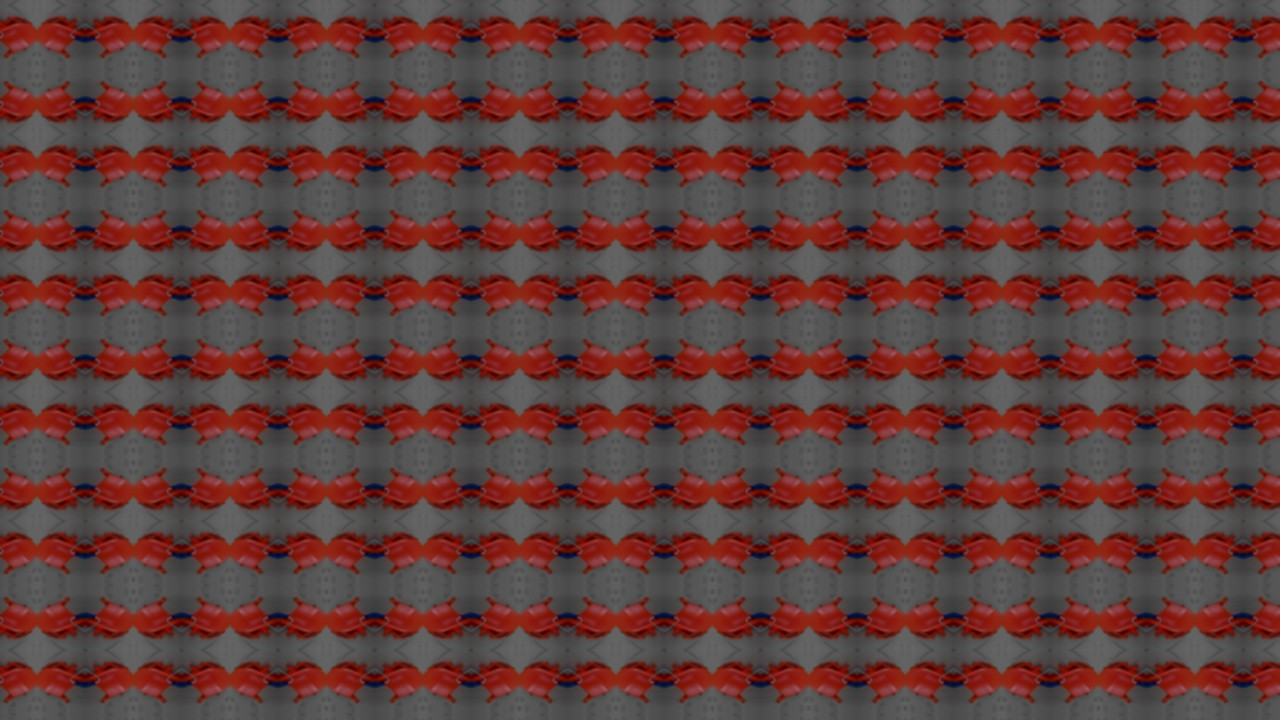chock: (82, 138, 131, 190), (179, 138, 228, 190), (276, 138, 325, 190), (373, 138, 422, 190), (470, 138, 519, 190), (567, 138, 616, 190), (664, 138, 713, 190), (761, 138, 810, 190), (858, 138, 907, 190), (955, 138, 1004, 190), (1052, 138, 1101, 190), (1149, 138, 1198, 190), (82, 206, 131, 258), (179, 206, 228, 258), (276, 206, 325, 258), (373, 206, 422, 258), (470, 206, 519, 258), (567, 206, 616, 258), (664, 206, 713, 258), (761, 206, 810, 258), (858, 206, 907, 258), (955, 206, 1004, 258), (1052, 206, 1101, 258), (1149, 206, 1198, 258), (82, 397, 131, 449), (179, 397, 228, 449), (276, 397, 325, 449), (373, 397, 422, 449), (470, 397, 519, 449), (567, 397, 616, 449), (664, 397, 713, 449), (761, 397, 810, 449), (858, 397, 907, 449), (955, 397, 1004, 449), (1052, 397, 1101, 449), (1149, 397, 1198, 449), (82, 465, 131, 517), (179, 465, 228, 517), (276, 465, 325, 517), (373, 465, 422, 517), (470, 465, 519, 517), (567, 465, 616, 517), (664, 465, 713, 517), (761, 465, 810, 517), (858, 465, 907, 517), (955, 465, 1004, 517), (1052, 465, 1101, 517), (1149, 465, 1198, 517), (82, 656, 131, 708), (179, 656, 228, 708), (276, 656, 325, 708), (373, 656, 422, 708), (470, 656, 519, 708), (567, 656, 616, 708), (664, 656, 713, 708), (761, 656, 810, 708), (858, 656, 907, 708), (955, 656, 1004, 708), (1052, 656, 1101, 708), (1149, 656, 1198, 708), (82, 9, 131, 60), (179, 9, 228, 60), (276, 9, 325, 60), (373, 9, 422, 60), (470, 9, 519, 60), (567, 9, 616, 60), (664, 9, 713, 60), (761, 9, 810, 60), (858, 9, 907, 60), (955, 9, 1004, 60), (1052, 9, 1101, 60), (1149, 9, 1198, 60), (82, 77, 131, 128), (179, 77, 228, 128), (276, 77, 325, 128), (373, 77, 422, 128), (470, 77, 519, 128), (567, 77, 616, 128), (664, 77, 713, 128), (761, 77, 810, 128), (858, 77, 907, 128), (955, 77, 1004, 128), (1052, 77, 1101, 128), (1149, 77, 1198, 128), (82, 268, 131, 319), (179, 268, 228, 319), (276, 268, 325, 319), (373, 268, 422, 319), (470, 268, 519, 319), (567, 268, 616, 319), (664, 268, 713, 319), (761, 268, 810, 319), (858, 268, 907, 319), (955, 268, 1004, 319), (1052, 268, 1101, 319), (1149, 268, 1198, 319), (82, 336, 131, 387), (179, 336, 228, 387), (276, 336, 325, 387), (373, 336, 422, 387), (470, 336, 519, 387), (567, 336, 616, 387), (664, 336, 713, 387), (761, 336, 810, 387), (858, 336, 907, 387), (955, 336, 1004, 387), (1052, 336, 1101, 387), (1149, 336, 1198, 387), (82, 527, 131, 578), (179, 527, 228, 578), (276, 527, 325, 578), (373, 527, 422, 578), (470, 527, 519, 578), (567, 527, 616, 578), (664, 527, 713, 578), (761, 527, 810, 578), (858, 527, 907, 578), (955, 527, 1004, 578), (1052, 527, 1101, 578), (1149, 527, 1198, 578), (82, 595, 131, 646), (179, 595, 228, 646), (276, 595, 325, 646), (373, 595, 422, 646), (470, 595, 519, 646), (567, 595, 616, 646), (664, 595, 713, 646), (761, 595, 810, 646), (858, 595, 907, 646), (955, 595, 1004, 646), (1052, 595, 1101, 646), (1149, 595, 1198, 646), (34, 138, 82, 190), (131, 138, 179, 190), (228, 138, 276, 190), (325, 138, 373, 190), (422, 138, 470, 190), (519, 138, 567, 190), (616, 138, 664, 190), (713, 138, 761, 190), (810, 138, 858, 190), (907, 138, 955, 190), (1004, 138, 1052, 190), (1101, 138, 1149, 190), (1198, 138, 1246, 190), (34, 206, 82, 258), (131, 206, 179, 258), (228, 206, 276, 258), (325, 206, 373, 258), (422, 206, 470, 258), (519, 206, 567, 258), (616, 206, 664, 258), (713, 206, 761, 258), (810, 206, 858, 258), (907, 206, 955, 258), (1004, 206, 1052, 258), (1101, 206, 1149, 258), (1198, 206, 1246, 258), (34, 397, 82, 449), (131, 397, 179, 449), (228, 397, 276, 449), (325, 397, 373, 449), (422, 397, 470, 449), (519, 397, 567, 449), (616, 397, 664, 449), (713, 397, 761, 449), (810, 397, 858, 449), (907, 397, 955, 449), (1004, 397, 1052, 449), (1101, 397, 1149, 449), (1198, 397, 1246, 449), (34, 465, 82, 517), (131, 465, 179, 517), (228, 465, 276, 517), (325, 465, 373, 517), (422, 465, 470, 517), (519, 465, 567, 517), (616, 465, 664, 517), (713, 465, 761, 517), (810, 465, 858, 517), (907, 465, 955, 517), (1004, 465, 1052, 517), (1101, 465, 1149, 517), (1198, 465, 1246, 517), (34, 656, 82, 708), (131, 656, 179, 708), (228, 656, 276, 708), (325, 656, 373, 708), (422, 656, 470, 708), (519, 656, 567, 708), (616, 656, 664, 708), (713, 656, 761, 708), (810, 656, 858, 708), (907, 656, 955, 708), (1004, 656, 1052, 708), (1101, 656, 1149, 708), (1198, 656, 1246, 708), (34, 9, 82, 60), (131, 9, 179, 60), (228, 9, 276, 60), (325, 9, 373, 60), (422, 9, 470, 60), (519, 9, 567, 60), (616, 9, 664, 60), (713, 9, 761, 60), (810, 9, 858, 60), (907, 9, 955, 60), (1004, 9, 1052, 60), (1101, 9, 1149, 60), (1198, 9, 1246, 60), (34, 77, 82, 128), (131, 77, 179, 128), (228, 77, 276, 128), (325, 77, 373, 128), (422, 77, 470, 128), (519, 77, 567, 128), (616, 77, 664, 128), (713, 77, 761, 128), (810, 77, 858, 128), (907, 77, 955, 128), (1004, 77, 1052, 128), (1101, 77, 1149, 128), (1198, 77, 1246, 128), (34, 268, 82, 319), (131, 268, 179, 319), (228, 268, 276, 319), (325, 268, 373, 319), (422, 268, 470, 319), (519, 268, 567, 319), (616, 268, 664, 319), (713, 268, 761, 319), (810, 268, 858, 319), (907, 268, 955, 319), (1004, 268, 1052, 319), (1101, 268, 1149, 319), (1198, 268, 1246, 319), (34, 336, 82, 387), (131, 336, 179, 387), (228, 336, 276, 387), (325, 336, 373, 387), (422, 336, 470, 387), (519, 336, 567, 387), (616, 336, 664, 387), (713, 336, 761, 387), (810, 336, 858, 387), (907, 336, 955, 387), (1004, 336, 1052, 387), (1101, 336, 1149, 387), (1198, 336, 1246, 387), (34, 527, 82, 578), (131, 527, 179, 578), (228, 527, 276, 578), (325, 527, 373, 578), (422, 527, 470, 578), (519, 527, 567, 578), (616, 527, 664, 578), (713, 527, 761, 578), (810, 527, 858, 578), (907, 527, 955, 578), (1004, 527, 1052, 578), (1101, 527, 1149, 578), (1198, 527, 1246, 578), (34, 595, 82, 646), (131, 595, 179, 646), (228, 595, 276, 646), (325, 595, 373, 646), (422, 595, 470, 646), (519, 595, 567, 646), (616, 595, 664, 646), (713, 595, 761, 646), (810, 595, 858, 646), (907, 595, 955, 646), (1004, 595, 1052, 646), (1101, 595, 1149, 646), (1198, 595, 1246, 646), (0, 138, 34, 190), (1246, 138, 1280, 190), (0, 206, 34, 258), (1246, 206, 1280, 258), (0, 397, 34, 449), (1246, 397, 1280, 449), (0, 465, 34, 517), (1246, 465, 1280, 517), (0, 656, 34, 708), (1246, 656, 1280, 708), (0, 9, 34, 60), (1246, 9, 1280, 60), (0, 77, 34, 128), (1246, 77, 1280, 128), (0, 268, 34, 319), (1246, 268, 1280, 319), (0, 336, 34, 387), (1246, 336, 1280, 387), (0, 527, 34, 578), (1246, 527, 1280, 578), (0, 595, 34, 646), (1246, 595, 1280, 646)
